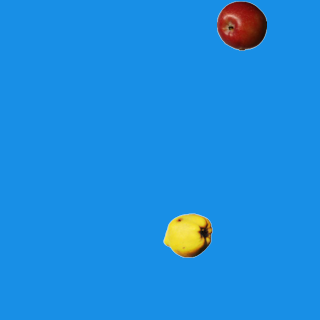Apple Braeburn: (216, 0, 266, 50)
Quince: (162, 210, 212, 260)
